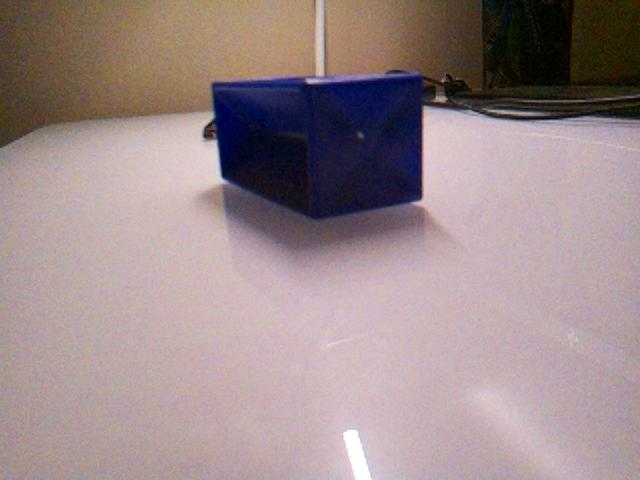blue: (210, 70, 427, 220)
